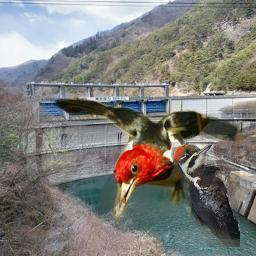Woodpecker: (42, 86, 243, 224), (171, 142, 240, 247)
